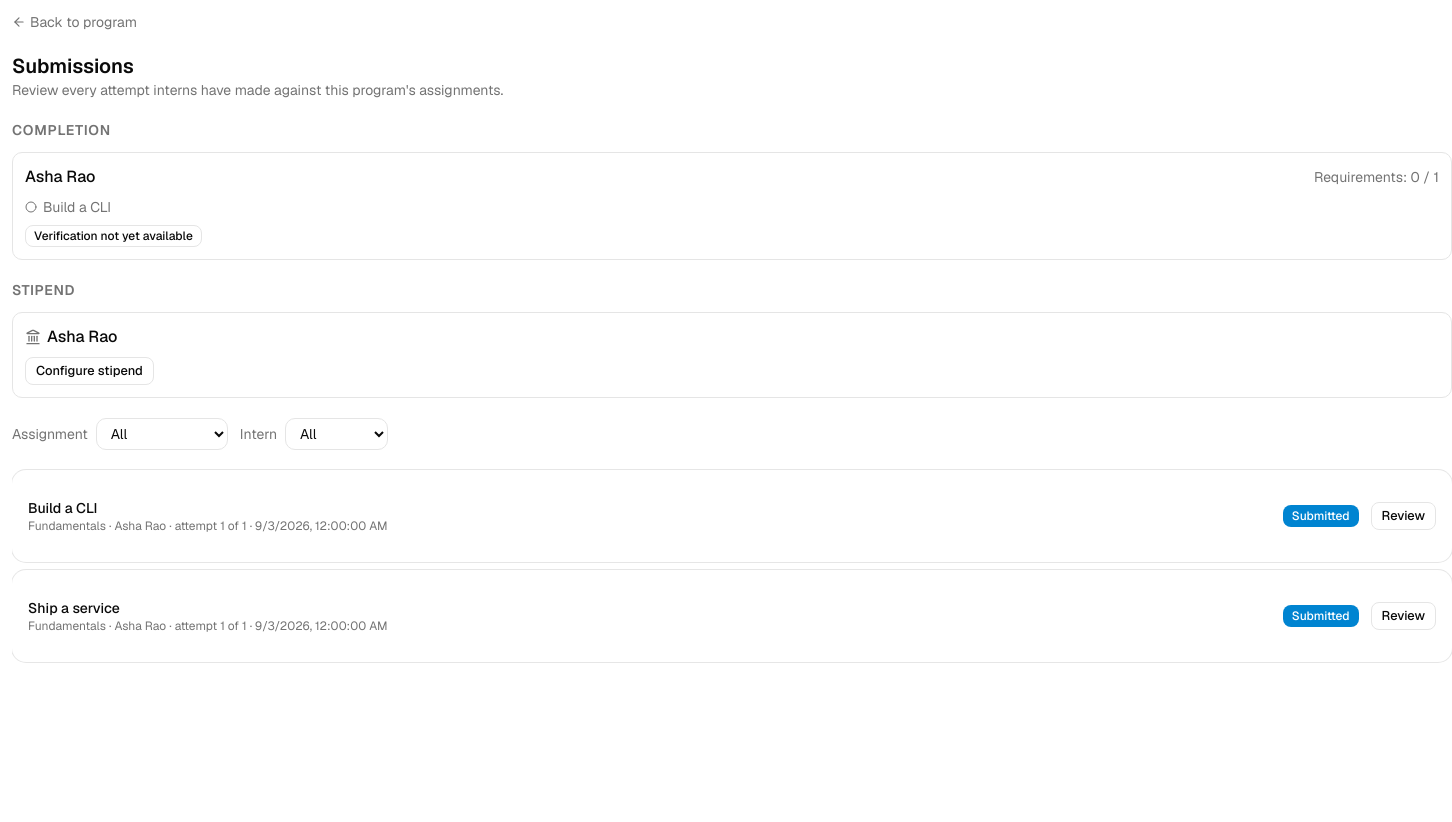
ProgramSubmissionsView › filters by assignment
The width and height of the screenshot is (1452, 822).
Check: the number of buttons "Review" is 2, box [1371,502,1436,530]; [1371,602,1436,630]
Step 1. Select "Ship a service" in the dropdown named "Filter by assignment" → {"x": 162, "y": 434}, box [96,418,228,450]
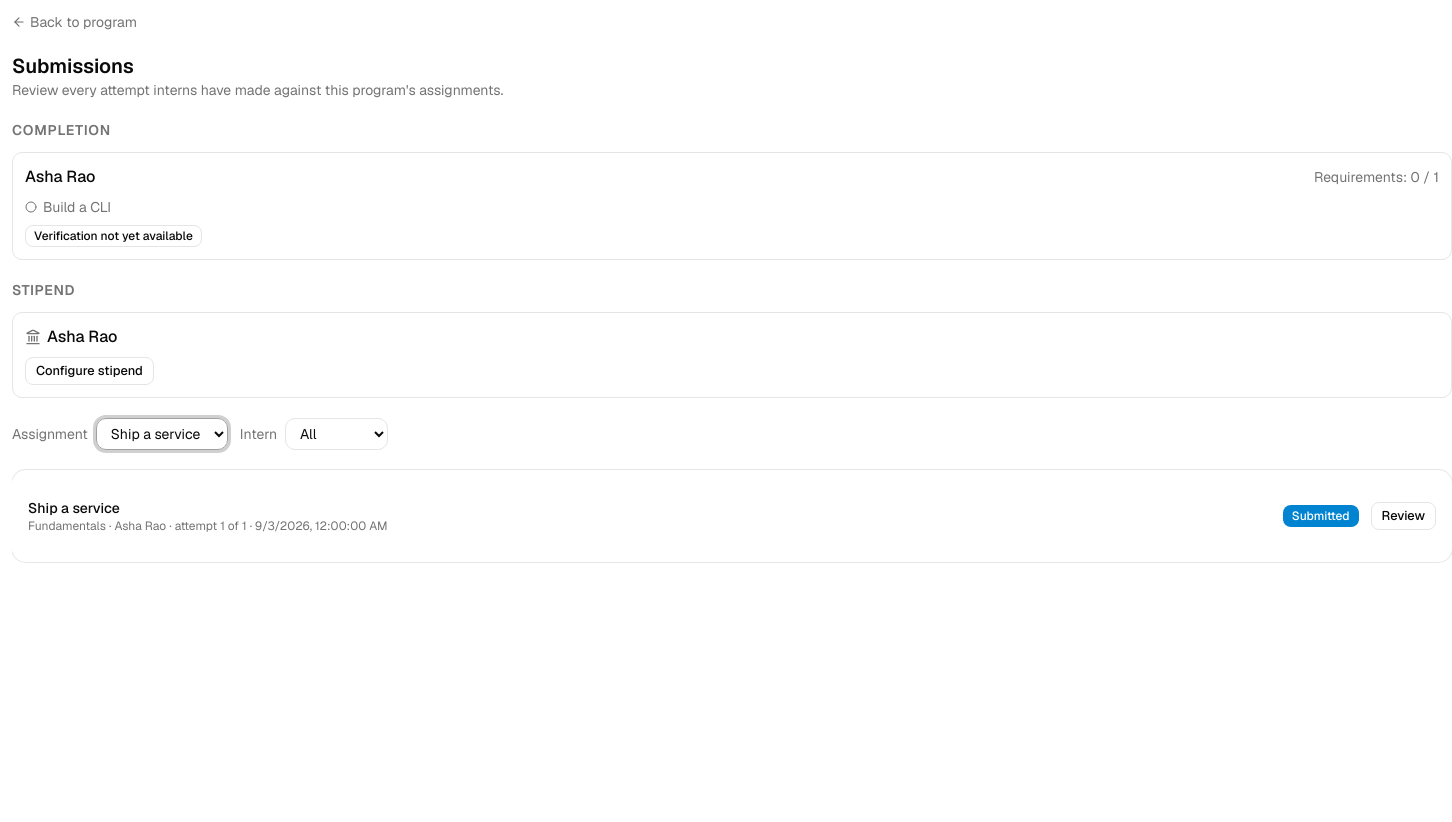
Check: the number of buttons "Review" is 1, box [1371,502,1436,530]
